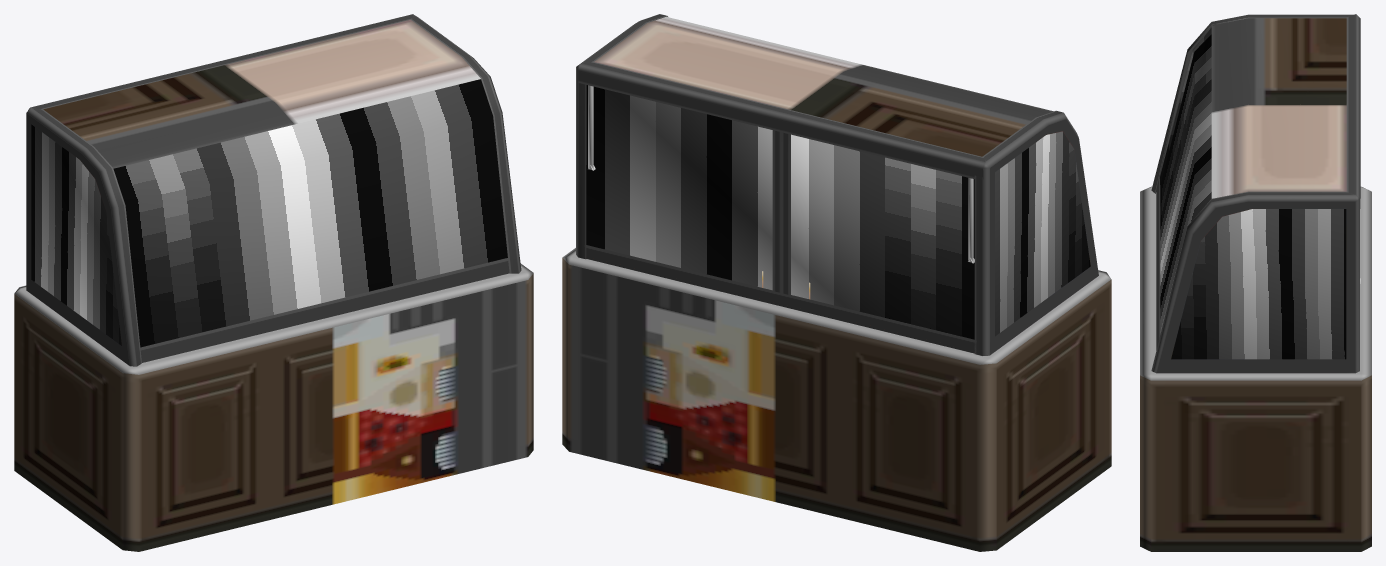
Rendered from int_oth_cakecase.dae.
3 views of the same model, side by side, from view 1: azimuth 30°, elevation 25°; view 2: azimuth 150°, elevation 25°; view 3: azimuth 270°, elevation 25° (orthographic). The views are drawn at different scales.
Parts seen in each view (by area): view 1: int_oth_cakecase; view 2: int_oth_cakecase; view 3: int_oth_cakecase.
Boxes of the visible parts, box(x1,y1,x2,y2) form: int_oth_cakecase: box(14, 14, 533, 551); int_oth_cakecase: box(562, 14, 1111, 551); int_oth_cakecase: box(1140, 14, 1371, 551).
Size of the model in its own units: 56.82 by 47.83 by 28.71.
Materials: 2 (2 with a texture image).
